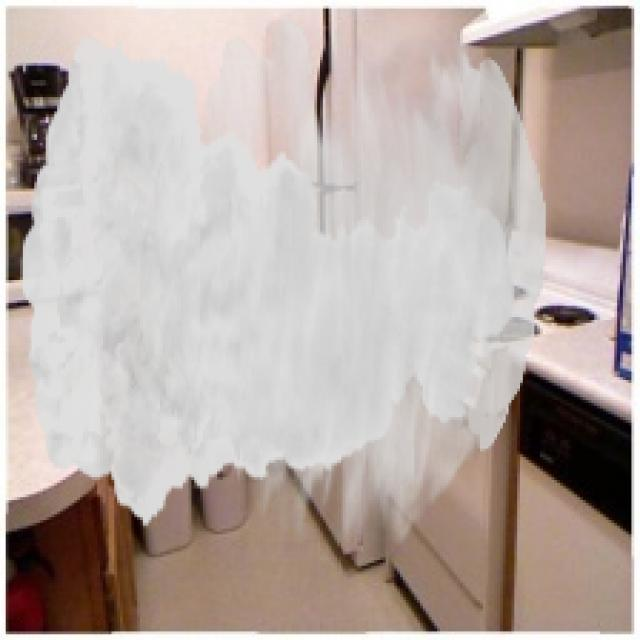Smoke: (20, 17, 546, 549)
